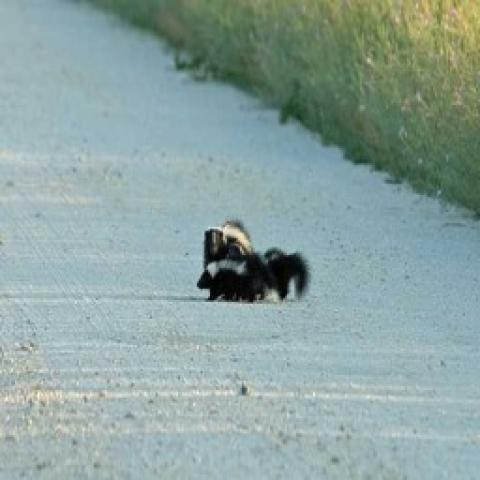small_animal: (187, 245, 311, 305), (199, 219, 256, 285)
